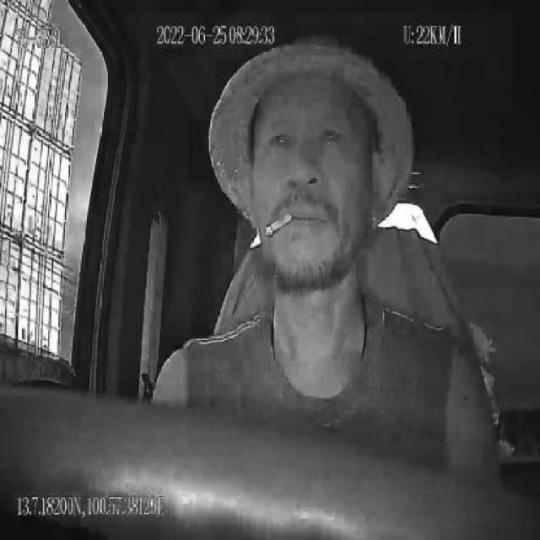smoking: (265, 210, 294, 241)
